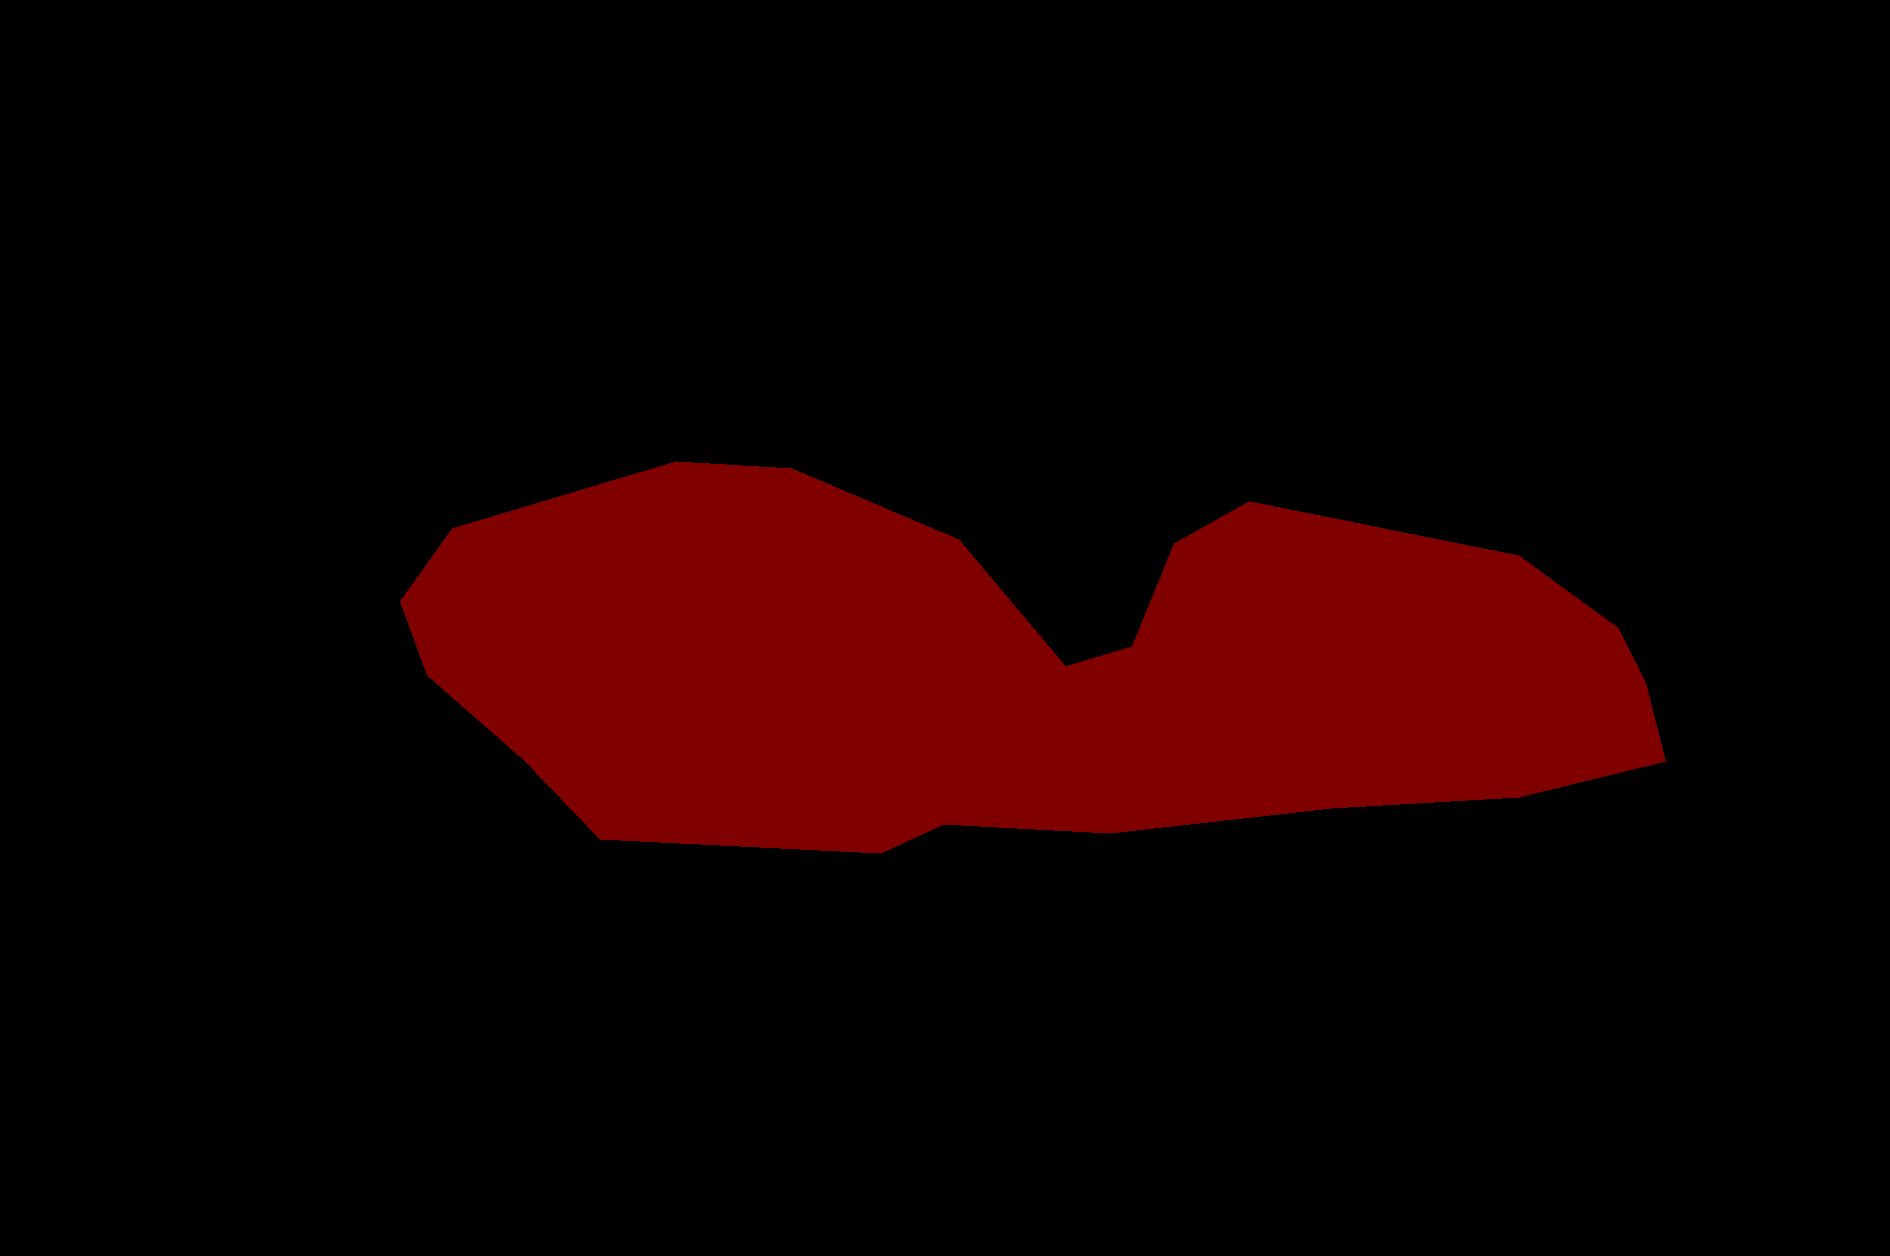fire: (401, 461, 1664, 854)
